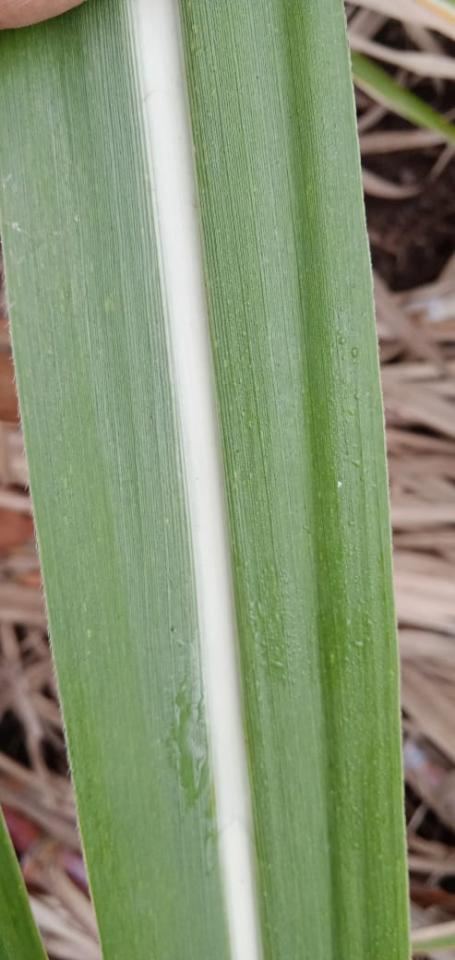Healthy: (0, 0, 410, 959)
